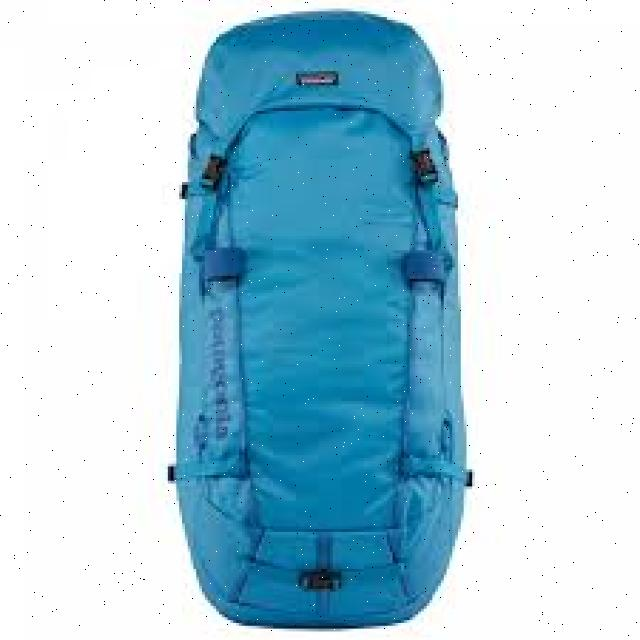backpack: (165, 6, 472, 628)
